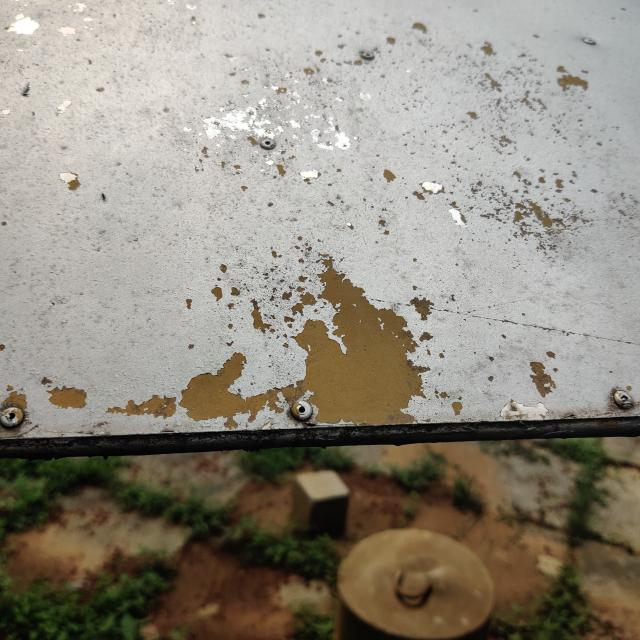paint-off: (32, 234, 478, 460)
